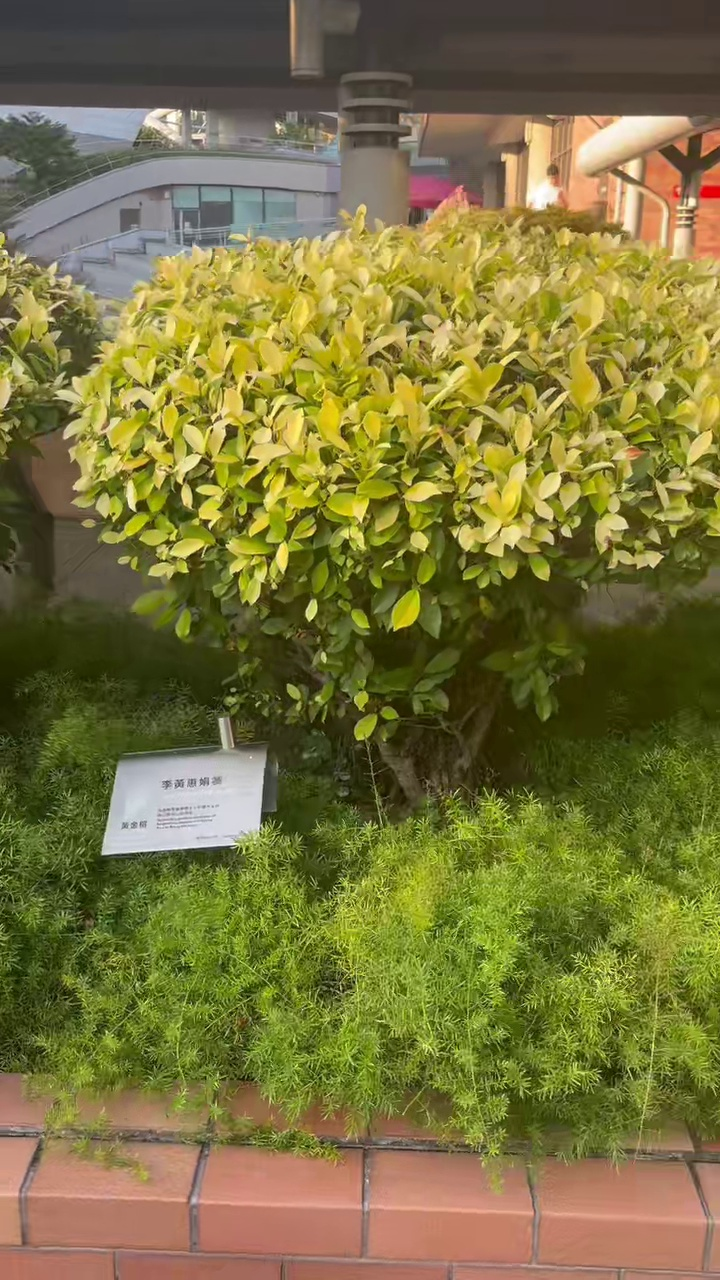Golden-leaves Fig: (66, 208, 719, 800)
